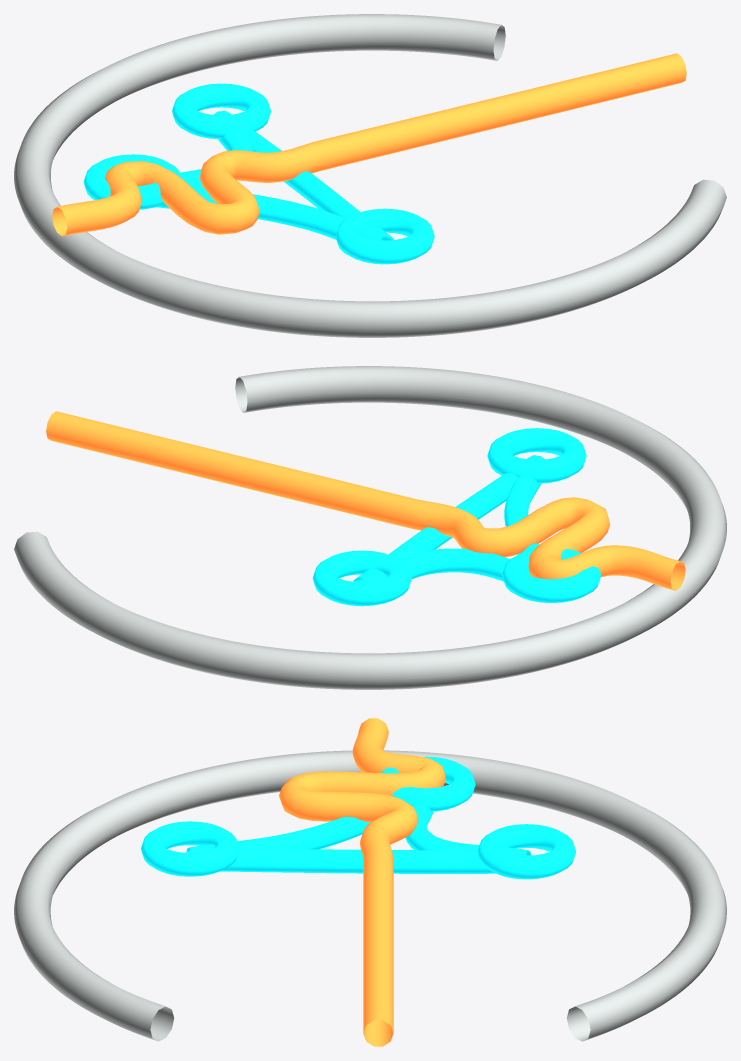
The model's file is gitpulse-pulse-core.glb.
3 renders of one model, top to bottom at view 1: azimuth 30°, elevation 25°; view 2: azimuth 150°, elevation 25°; view 3: azimuth 270°, elevation 25°, orthographic.
Parts seen in each view (by area): view 1: Ring, Waveform, GitNodeBottom, GitNodeTop, GitRails_2, GitRails_3, GitNodeLeft, GitRails_1; view 2: Ring, Waveform, GitNodeTop, GitNodeBottom, GitNodeLeft, GitRails_1, GitRails_3, GitRails_2; view 3: Ring, Waveform, GitRails_3, GitNodeTop, GitNodeBottom, GitRails_2, GitNodeLeft, GitRails_1.
Part boxes in pixels (<box>): Ring: <box>14,14,726,337</box>; Waveform: <box>52,53,686,236</box>; GitNodeBottom: <box>335,208,434,264</box>; GitNodeTop: <box>172,83,271,138</box>; GitRails_2: <box>156,187,391,240</box>; GitRails_3: <box>222,110,393,239</box>; GitNodeLeft: <box>83,154,181,209</box>; GitRails_1: <box>180,111,253,188</box>; Ring: <box>14,366,726,689</box>; Waveform: <box>46,411,685,590</box>; GitNodeTop: <box>312,550,411,606</box>; GitNodeBottom: <box>487,428,586,483</box>; GitNodeLeft: <box>502,549,601,603</box>; GitRails_1: <box>355,548,530,582</box>; GitRails_3: <box>353,455,535,581</box>; GitRails_2: <box>504,455,544,554</box>; Ring: <box>14,750,726,1041</box>; Waveform: <box>279,718,445,1046</box>; GitRails_3: <box>190,847,526,873</box>; GitNodeTop: <box>477,824,575,879</box>; GitNodeBottom: <box>141,821,239,876</box>; GitRails_2: <box>186,817,369,852</box>; GitNodeLeft: <box>381,756,475,811</box>; GitRails_1: <box>405,804,530,855</box>.
Size of the model in its own units: 4.48 by 0.3997 by 4.47.
